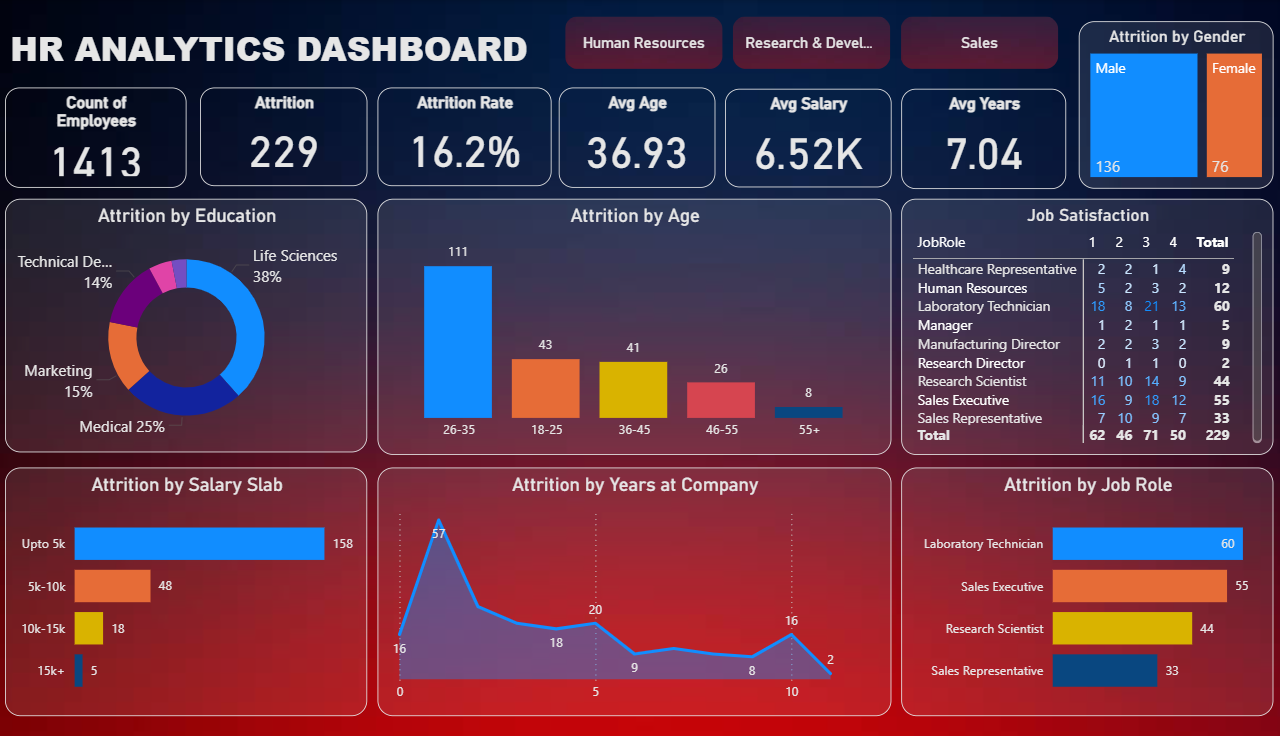

What the dashboard file says about the page in this screenshot:
{"tool":"powerbi","page":{"name":"Page 1","canvas":[1280,720],"ordinal":0},"visuals":[{"type":"card","title":"Count of Employees","fields":{"Values":["CountNonNull(HR_Analytics.EmpID)"]},"box":[9.7,84.5,174.9,96.5],"z":0},{"type":"card","title":"Attrition","fields":{"Values":["Sum(HR_Analytics.AttritionCount)"]},"box":[197.9,84.5,161.7,95.3],"z":1000},{"type":"card","title":"Attrition Rate","fields":{"Values":["HR_Analytics.Attrition Rate"]},"box":[369.2,84.5,167.7,95.3],"z":2000},{"type":"card","title":"Avg Age","fields":{"Values":["Avg(HR_Analytics.Age)"]},"box":[544.1,84.5,150.8,96.5],"z":3000},{"type":"card","title":"Avg Salary","fields":{"Values":["Avg(HR_Analytics.MonthlyIncome)"]},"box":[704.6,85.7,160.5,95.3],"z":4000},{"type":"card","title":"Avg Years","fields":{"Values":["Avg(HR_Analytics.YearsAtCompany)"]},"box":[874.7,85.7,159.3,96.5],"z":5000},{"type":"donutChart","title":"Attrition by Education","fields":{"Category":["HR_Analytics.EducationField"],"Y":["Sum(HR_Analytics.AttritionCount)"]},"box":[9.7,191.8,349.9,244.9],"z":6000},{"type":"columnChart","title":"Attrition by Age","fields":{"Y":["Sum(HR_Analytics.AttritionCount)"],"Category":["HR_Analytics.AgeGroup"]},"box":[369.2,191.8,495.8,247.3],"z":7000},{"type":"pivotTable","title":"Job Satisfaction","fields":{"Rows":["HR_Analytics.JobRole"],"Columns":["HR_Analytics.JobSatisfaction"],"Values":["Sum(HR_Analytics.AttritionCount)"]},"box":[874.7,191.8,359.5,247.3],"z":8000},{"type":"barChart","title":"Attrition by Salary Slab","fields":{"Category":["HR_Analytics.SalarySlab"],"Y":["Sum(HR_Analytics.AttritionCount)"]},"box":[9.7,451.2,349.9,240.1],"z":9000},{"type":"barChart","title":"Attrition by Job Role","fields":{"Category":["HR_Analytics.JobRole"],"Y":["Sum(HR_Analytics.AttritionCount)"]},"box":[874.7,451.2,359.5,240.1],"z":10000},{"type":"areaChart","title":"Attrition by Years at Company","fields":{"Category":["HR_Analytics.YearsAtCompany"],"Y":["Sum(HR_Analytics.AttritionCount)"]},"box":[369.2,451.2,495.8,240.1],"z":11000},{"type":"treemap","title":"Attrition by Gender","fields":{"Group":["HR_Analytics.Gender"],"Values":["Sum(HR_Analytics.AttritionCount)"]},"box":[1046,20.5,188.2,161.7],"z":12000},{"type":"textbox","box":[9.7,19.3,527.2,65.1],"z":13000},{"type":"advancedSlicerVisual","fields":{"Values":["HR_Analytics.Department"]},"box":[544.1,9.7,489.8,63.9],"z":13001}]}

Visuals, with their boxes in screenshot pixels (x1, y1, x2, y2), scaled from the page's 1280x720 canvas onto the 1280x736 screenshot:
"Count of Employees" card: locate(10, 86, 185, 185)
"Attrition" card: locate(198, 86, 360, 184)
"Attrition Rate" card: locate(369, 86, 537, 184)
"Avg Age" card: locate(544, 86, 695, 185)
"Avg Salary" card: locate(705, 88, 865, 185)
"Avg Years" card: locate(875, 88, 1034, 186)
"Attrition by Education" donutChart: locate(10, 196, 360, 446)
"Attrition by Age" columnChart: locate(369, 196, 865, 449)
"Job Satisfaction" pivotTable: locate(875, 196, 1234, 449)
"Attrition by Salary Slab" barChart: locate(10, 461, 360, 707)
"Attrition by Job Role" barChart: locate(875, 461, 1234, 707)
"Attrition by Years at Company" areaChart: locate(369, 461, 865, 707)
"Attrition by Gender" treemap: locate(1046, 21, 1234, 186)
textbox: locate(10, 20, 537, 86)
advancedSlicerVisual - HR_Analytics.Department: locate(544, 10, 1034, 75)
